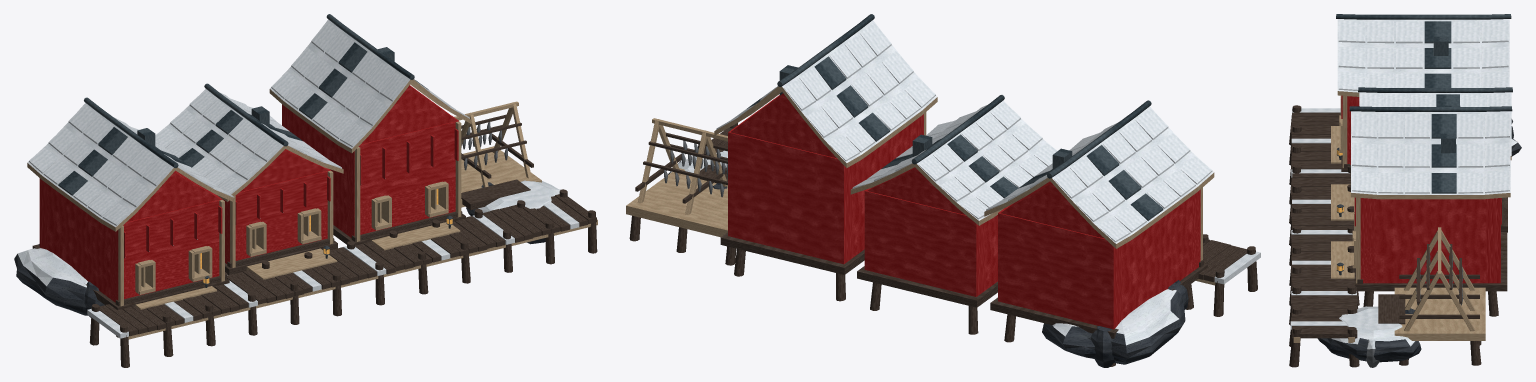
The model's file is nordic_rorbu_village_mid.glb.
3 views of the same model, side by side, from view 1: azimuth 30°, elevation 25°; view 2: azimuth 150°, elevation 25°; view 3: azimuth 270°, elevation 25° (orthographic). The views are drawn at different scales.
Parts seen in each view (by area): view 1: nordic_rorbu_village_mid; view 2: nordic_rorbu_village_mid; view 3: nordic_rorbu_village_mid.
Boxes of the visible parts, <box> form: nordic_rorbu_village_mid: <box>14,14,597,367</box>; nordic_rorbu_village_mid: <box>626,14,1260,367</box>; nordic_rorbu_village_mid: <box>1289,14,1521,367</box>.
Size of the model in its own units: 26 by 9.8 by 11.
Materials: 2 (2 with a texture image).
